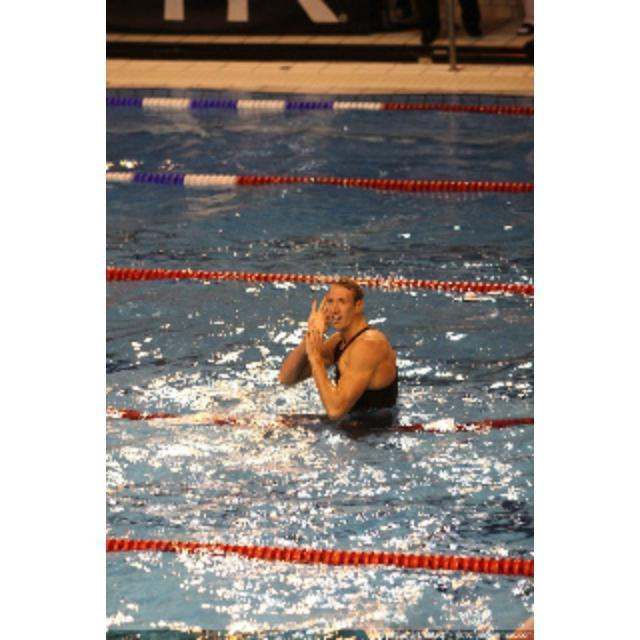human: (282, 271, 400, 441)
